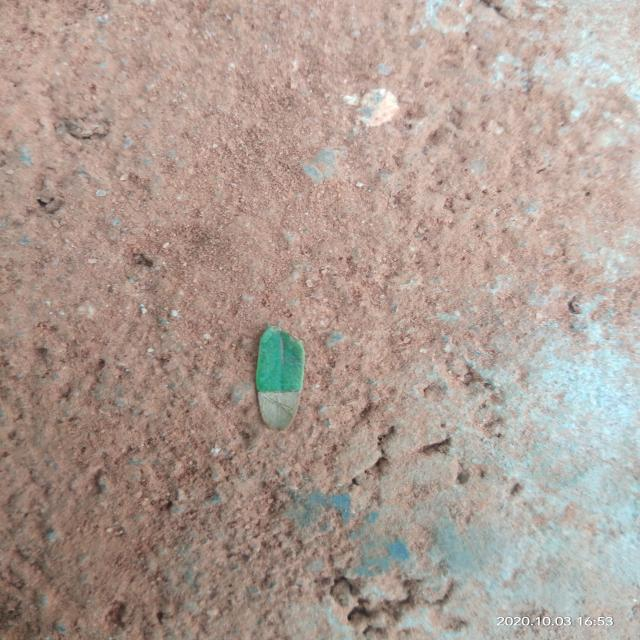defectedtamarind: (258, 390, 300, 430)
tamarind: (257, 326, 305, 430)
